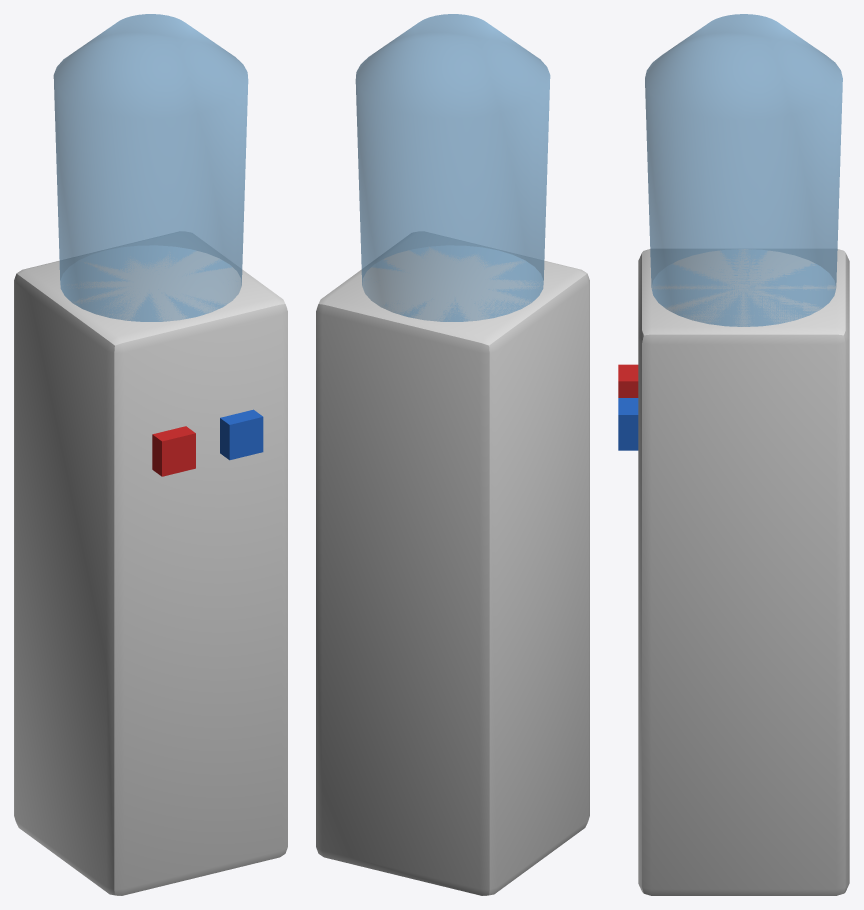
The model's file is water_cooler.glb.
The picture shows the model from 3 angles, left to right: view 1: azimuth 30°, elevation 25°; view 2: azimuth 150°, elevation 25°; view 3: azimuth 270°, elevation 25°; orthographic projection.
Visible parts, largest first — view 1: cooler, bottle; view 2: cooler, bottle; view 3: cooler, bottle.
Boxes of the visible parts, bbox=[...] form: cooler: bbox=[14, 231, 287, 895]; bottle: bbox=[53, 14, 248, 321]; cooler: bbox=[316, 231, 589, 895]; bottle: bbox=[355, 14, 550, 321]; cooler: bbox=[618, 249, 849, 895]; bottle: bbox=[645, 14, 842, 326].
Bounding box in the file's own units: 0.32 × 1.38 × 0.35.
